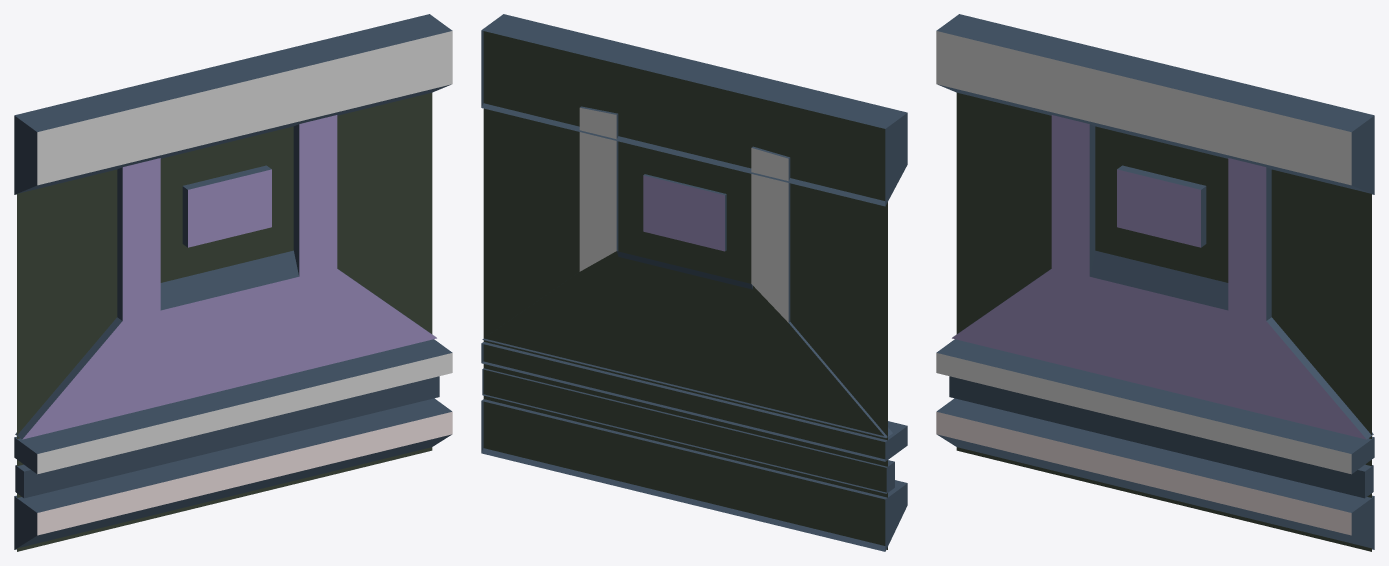
The model's file is Environment_Wall_2.fbx.
3 views of the same model, side by side, from view 1: azimuth 30°, elevation 25°; view 2: azimuth 150°, elevation 25°; view 3: azimuth 330°, elevation 25° (orthographic). The views are drawn at different scales.
Parts seen in each view (by area): view 1: Wall_2; view 2: Wall_2; view 3: Wall_2.
Boxes of the visible parts, x1,y1,x2,y2 form: Wall_2: (14,14,452,551); Wall_2: (481,14,907,551); Wall_2: (936,14,1374,551).
Size of the model in its own units: 400 by 400 by 38.42.
